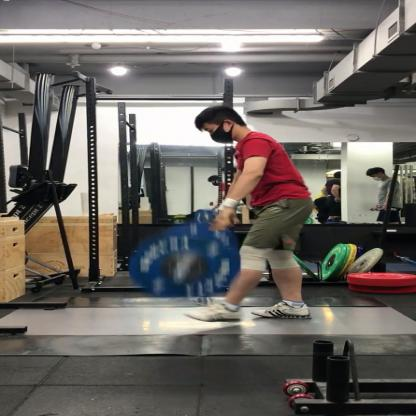Barbell: (118, 221, 250, 305)
